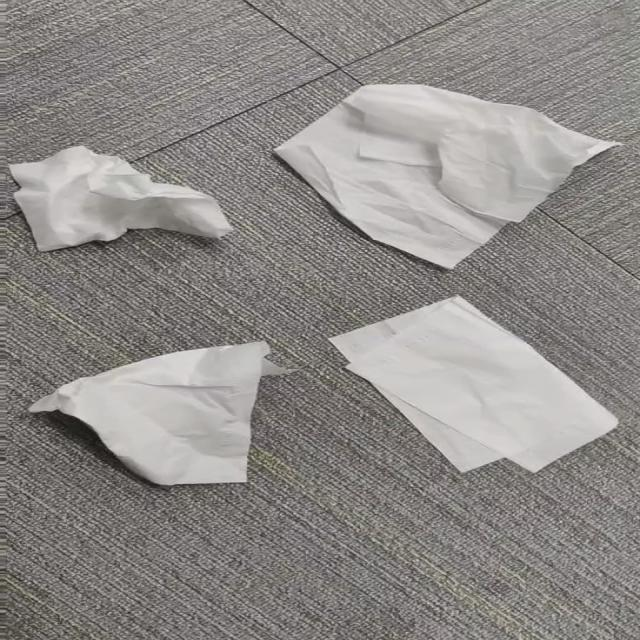paper: (275, 85, 618, 269), (329, 297, 616, 471), (31, 342, 281, 485), (11, 147, 231, 251)
